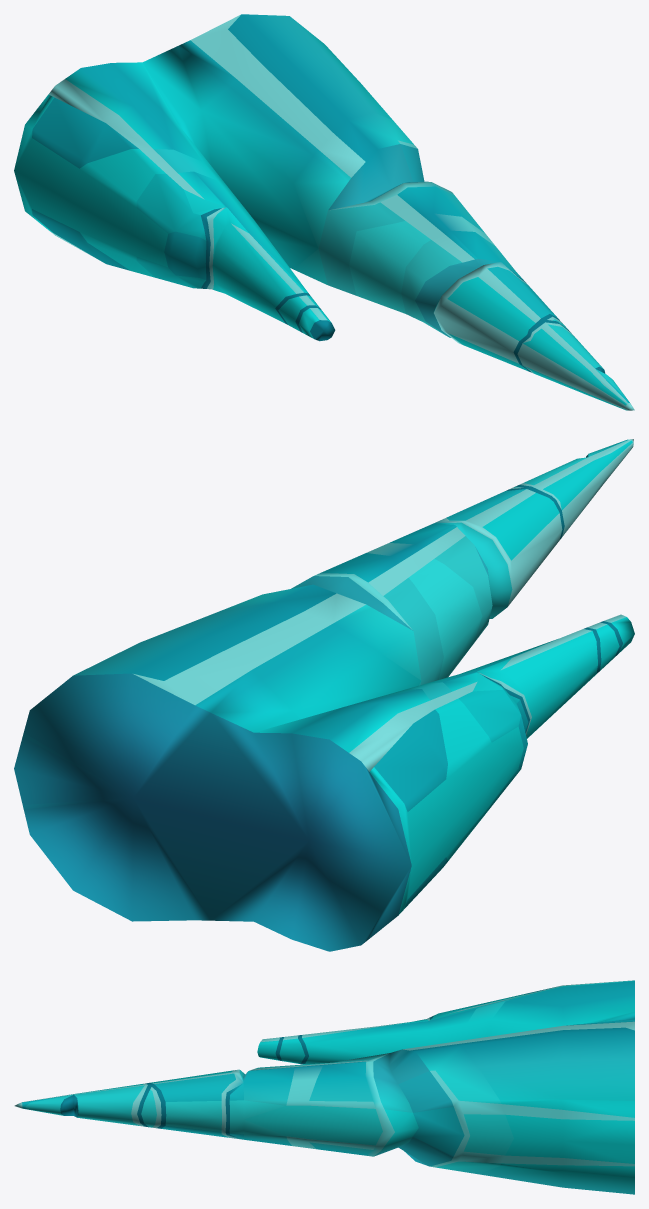
The model's file is icicleB.fbx.
3 renders of one model, top to bottom at view 1: azimuth 30°, elevation 25°; view 2: azimuth 150°, elevation 25°; view 3: azimuth 270°, elevation 25°, orthographic. The views are drawn at different scales.
Visible parts, largest first — view 1: IcicleB; view 2: IcicleB; view 3: IcicleB.
Boxes of the visible parts, box(x1,y1,x2,y2) form: IcicleB: box(14, 14, 634, 410); IcicleB: box(14, 439, 634, 951); IcicleB: box(14, 980, 634, 1194).
Bounding box in the file's own units: 119 × 70.81 × 255.
